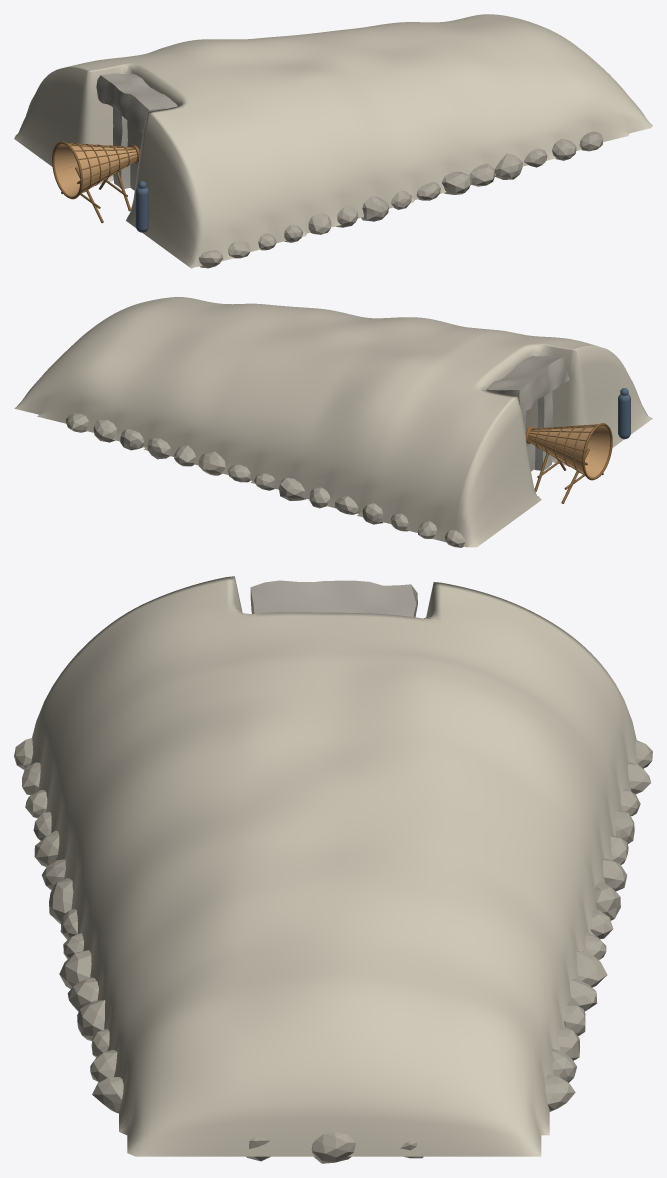
File: dolmen-restored.glb
3 renders of one model, top to bottom at view 1: azimuth 30°, elevation 25°; view 2: azimuth 150°, elevation 25°; view 3: azimuth 270°, elevation 25°, orthographic. The views are drawn at different scales.
Parts seen in each view (by area): view 1: cairn, kerb, capstone, collector-skin, collector-hoops, portal-stone-south, collector-staves, scale-figure-1.7m, trestles; view 2: cairn, kerb, capstone, collector-skin, portal-stone-north, collector-hoops, collector-staves, scale-figure-1.7m, trestles; view 3: cairn, kerb, capstone.
Boxes of the visible parts, box(x1,y1,x2,y2) form: cairn: box(14, 14, 652, 268); kerb: box(199, 131, 602, 268); capstone: box(96, 73, 177, 132); collector-skin: box(54, 144, 137, 196); collector-hoops: box(52, 141, 129, 199); portal-stone-south: box(112, 107, 130, 188); collector-staves: box(59, 143, 137, 194); scale-figure-1.7m: box(135, 181, 148, 232); trestles: box(61, 167, 130, 222); cairn: box(14, 297, 652, 547); kerb: box(66, 413, 465, 547); capstone: box(486, 355, 569, 411); collector-skin: box(528, 425, 610, 477); portal-stone-north: box(534, 391, 552, 470); collector-hoops: box(535, 423, 612, 480); collector-staves: box(528, 424, 598, 475); scale-figure-1.7m: box(618, 388, 630, 439); trestles: box(534, 448, 603, 503); cairn: box(30, 576, 638, 1156); kerb: box(14, 738, 652, 1163); capstone: box(250, 580, 417, 617).
Size of the model in its own units: 15.68 by 3.29 by 9.55.
